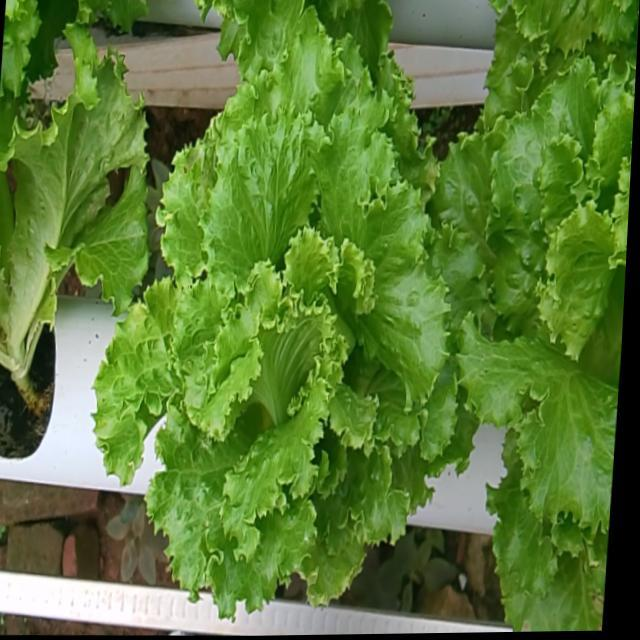Mature: (94, 46, 458, 635), (434, 69, 634, 553)
